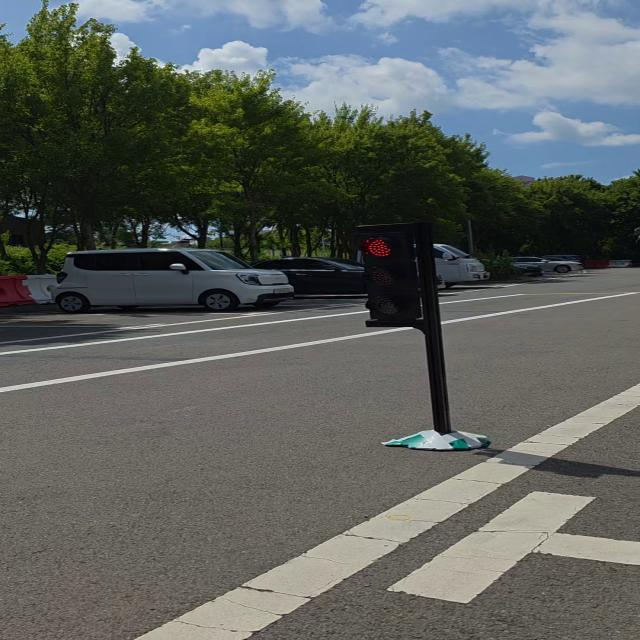red: (348, 222, 428, 326)
